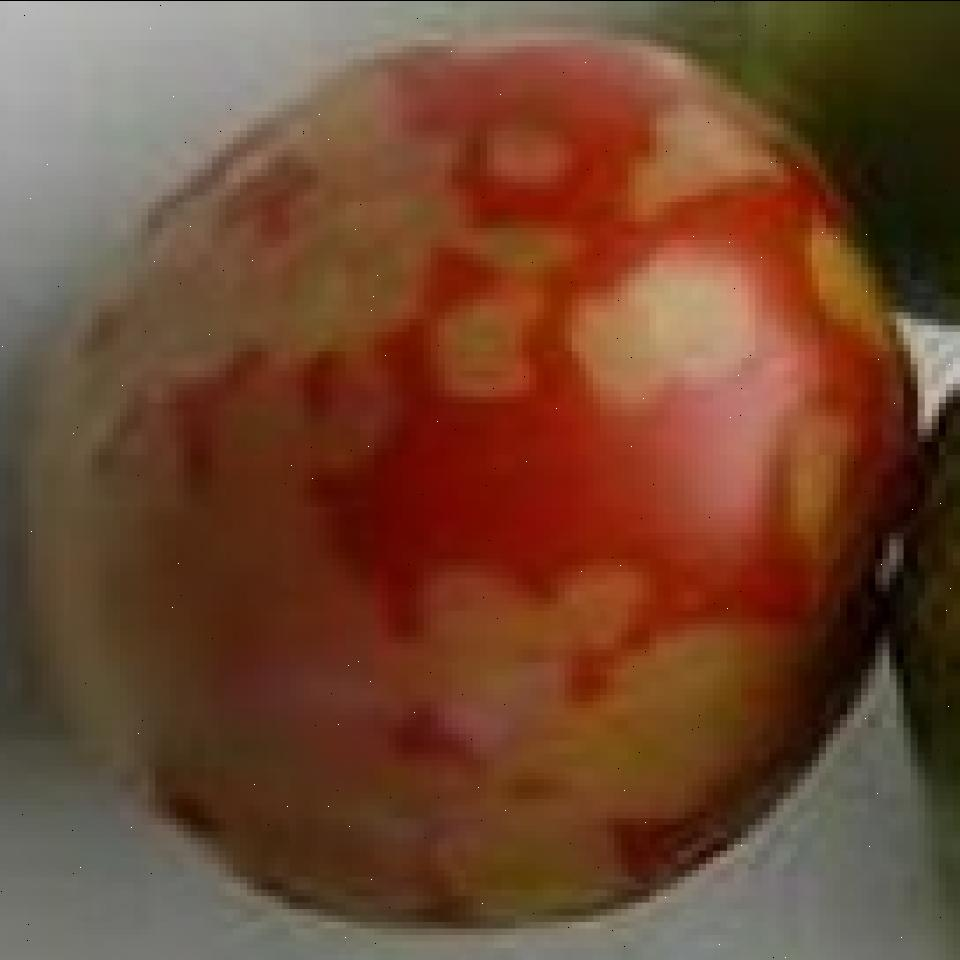Spotted wilt Virus: (49, 32, 918, 939)
